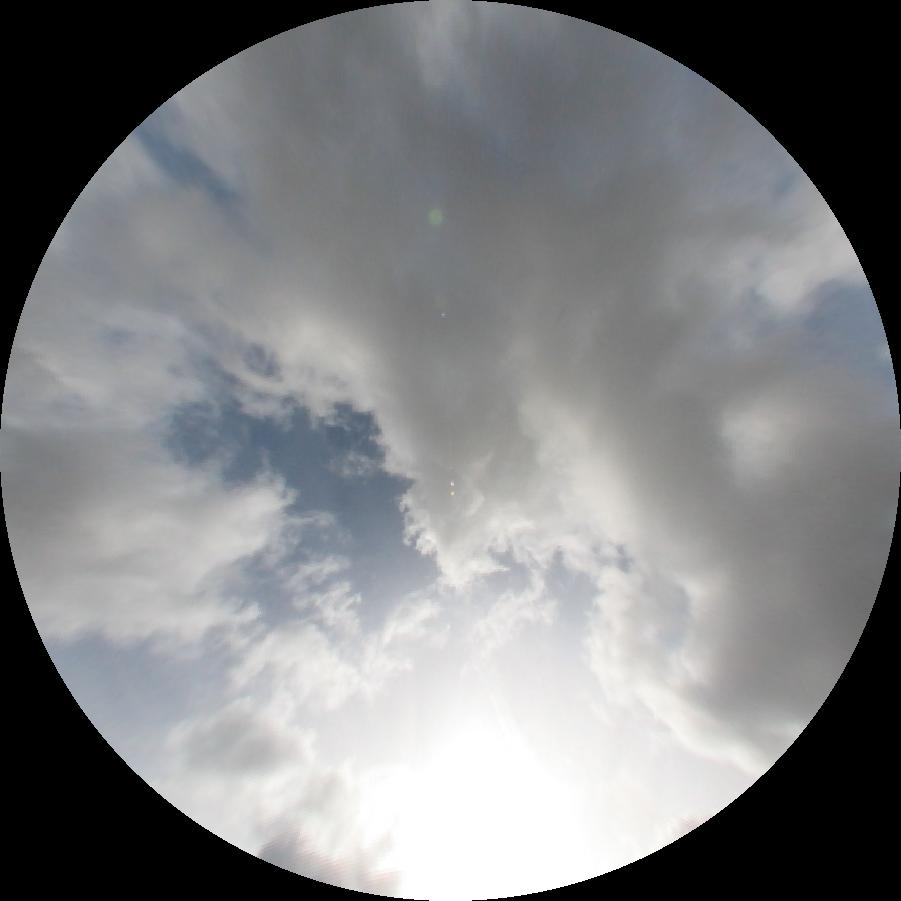sun: (376, 723, 600, 894)
